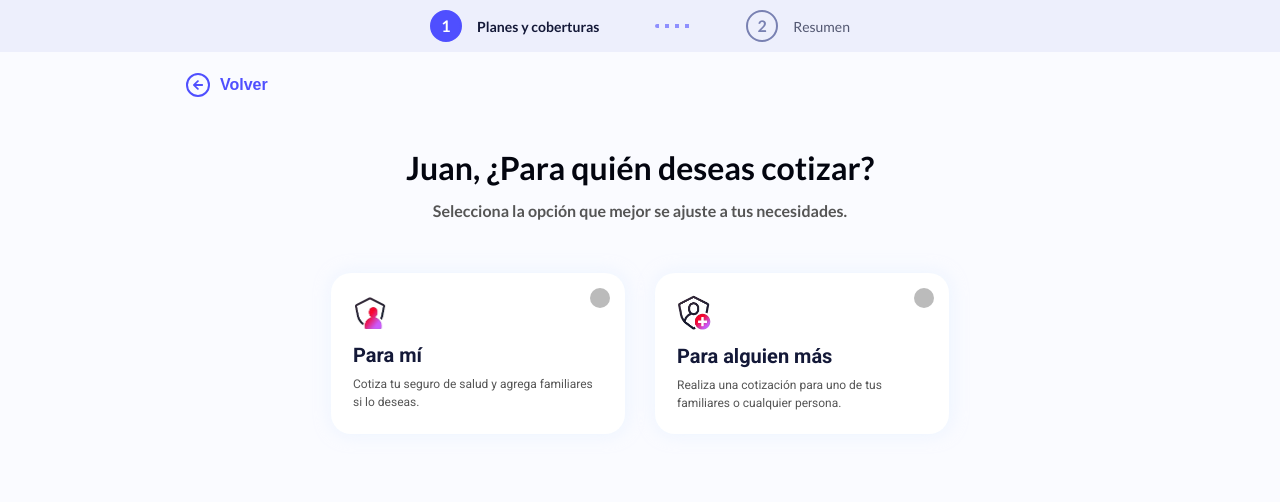
InsurancePage › Visualización de planes › debe mostrar mensaje cuando no hay planes disponibles
This screenshot has width=1280, height=502.
Click the radio button named "para mí" at (600, 298), box [590,288,610,308]
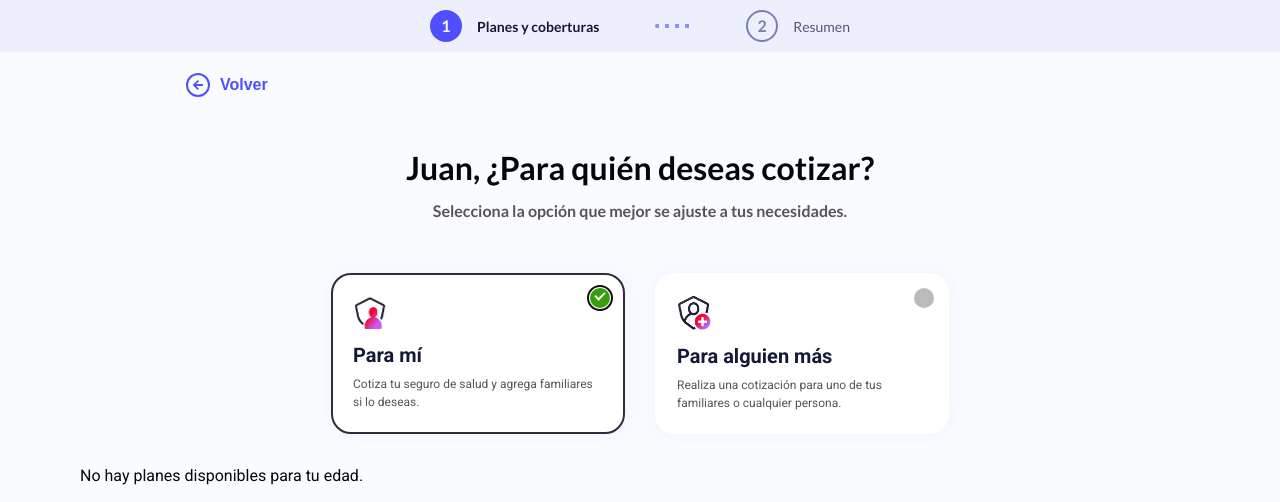
Result: the text "No hay planes disponibles para tu edad." is shown at [80,466,363,485]
